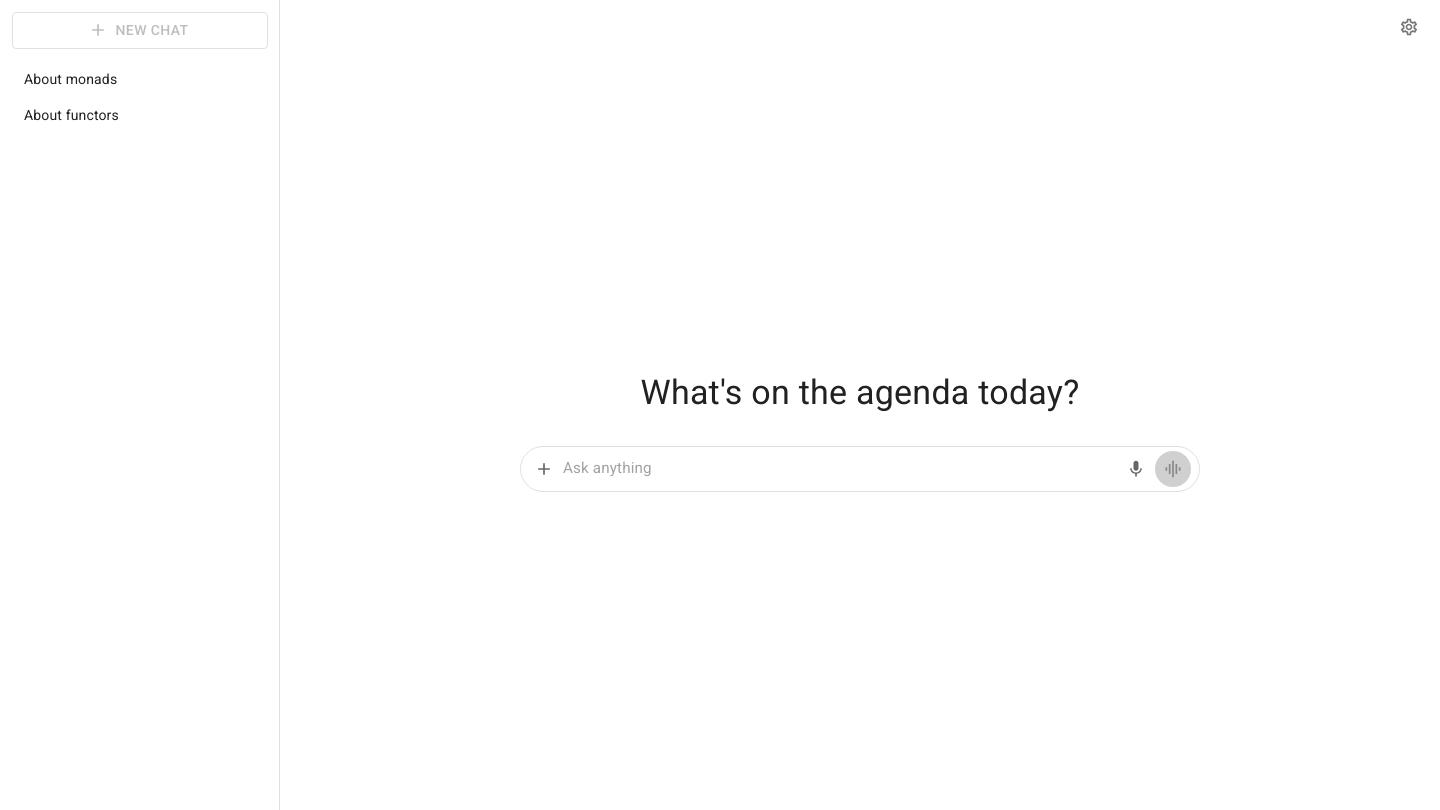
Test: ChatShell › clears an error on New chat
Type "Hello" into the field at coordinates (842, 469), box [563,454,1121,484]
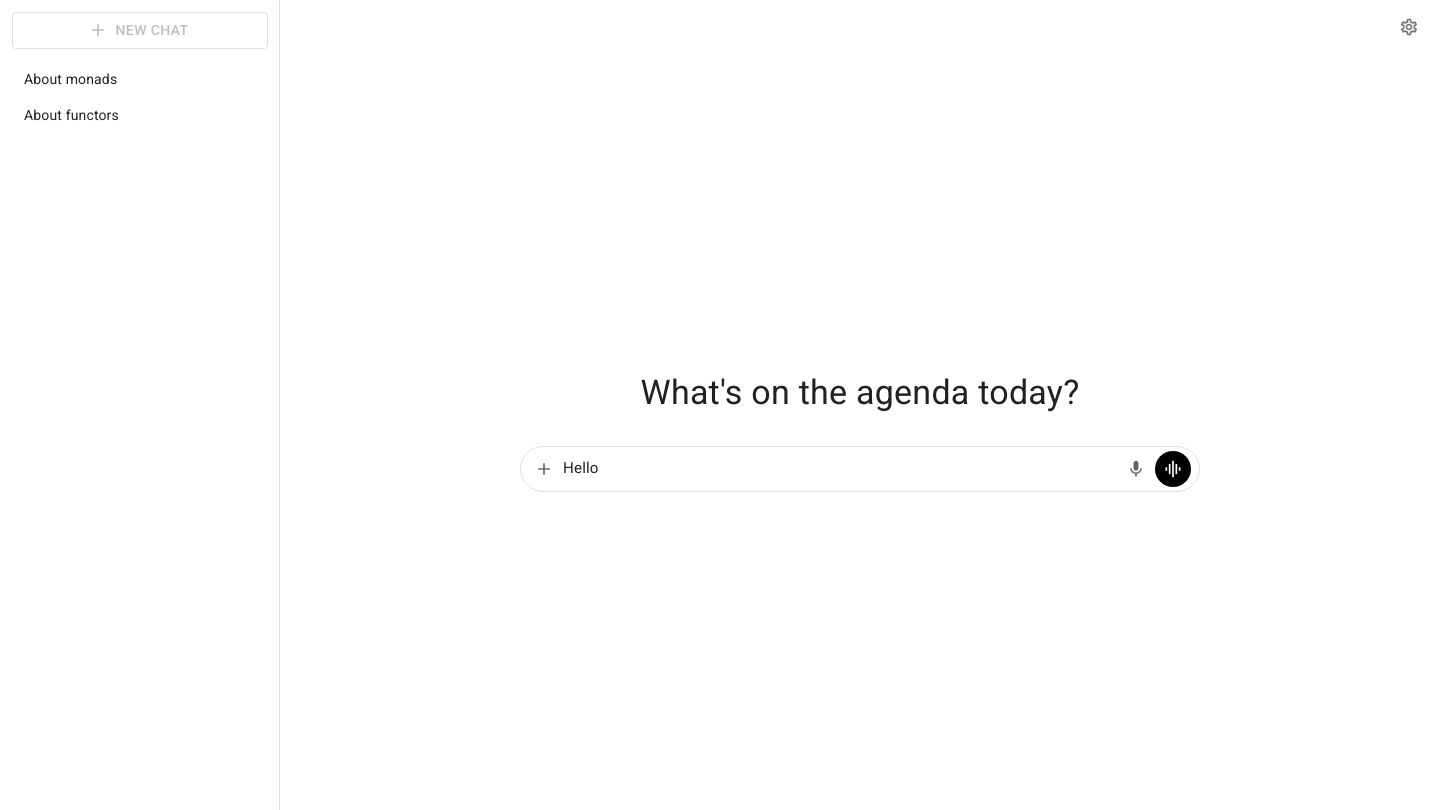
Click the button named "send" at coordinates (1173, 469), box [1155,451,1191,487]
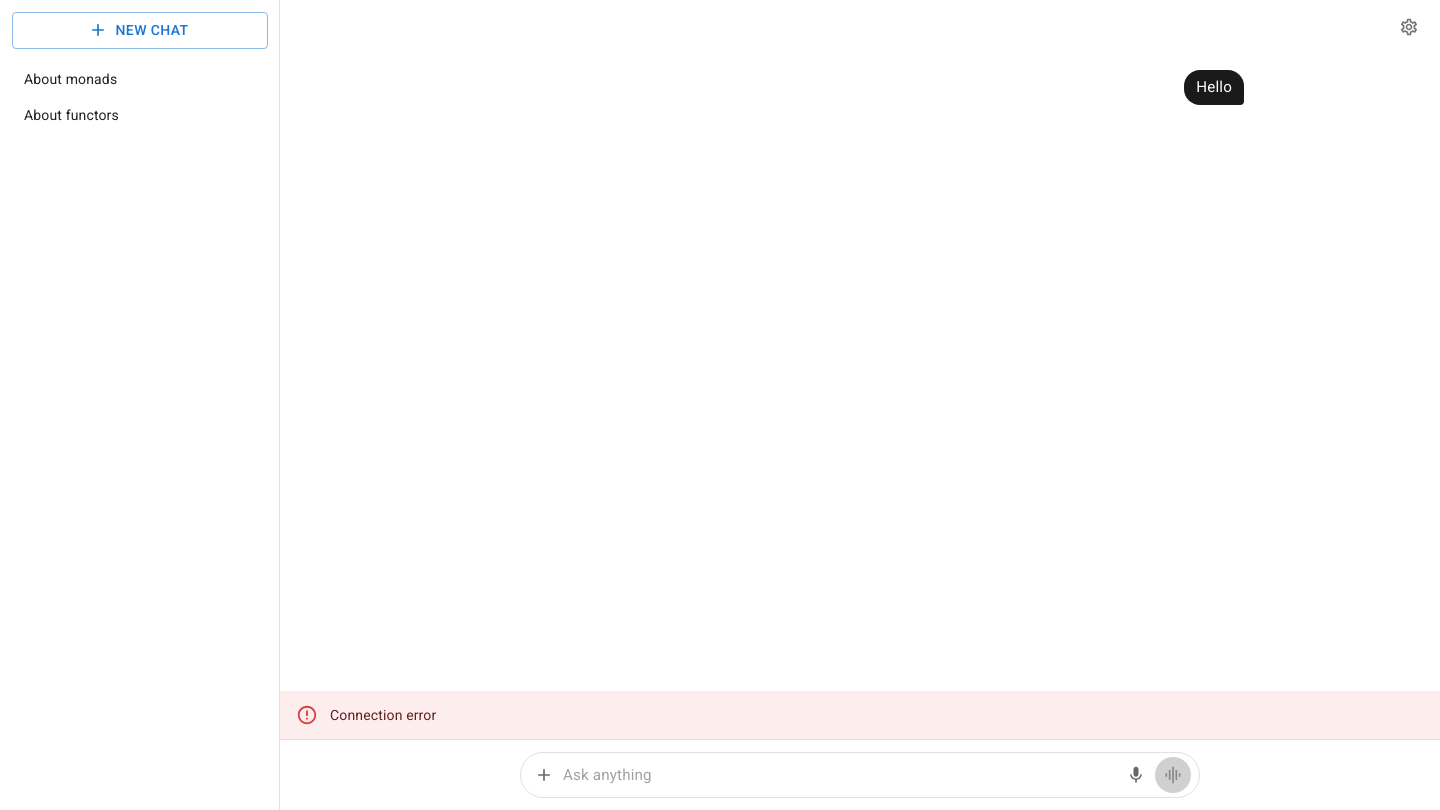
Expected: the text "Connection error" is shown, [330,707,436,723]
Click the button "New chat" at coordinates (140, 30), box [12,12,268,48]
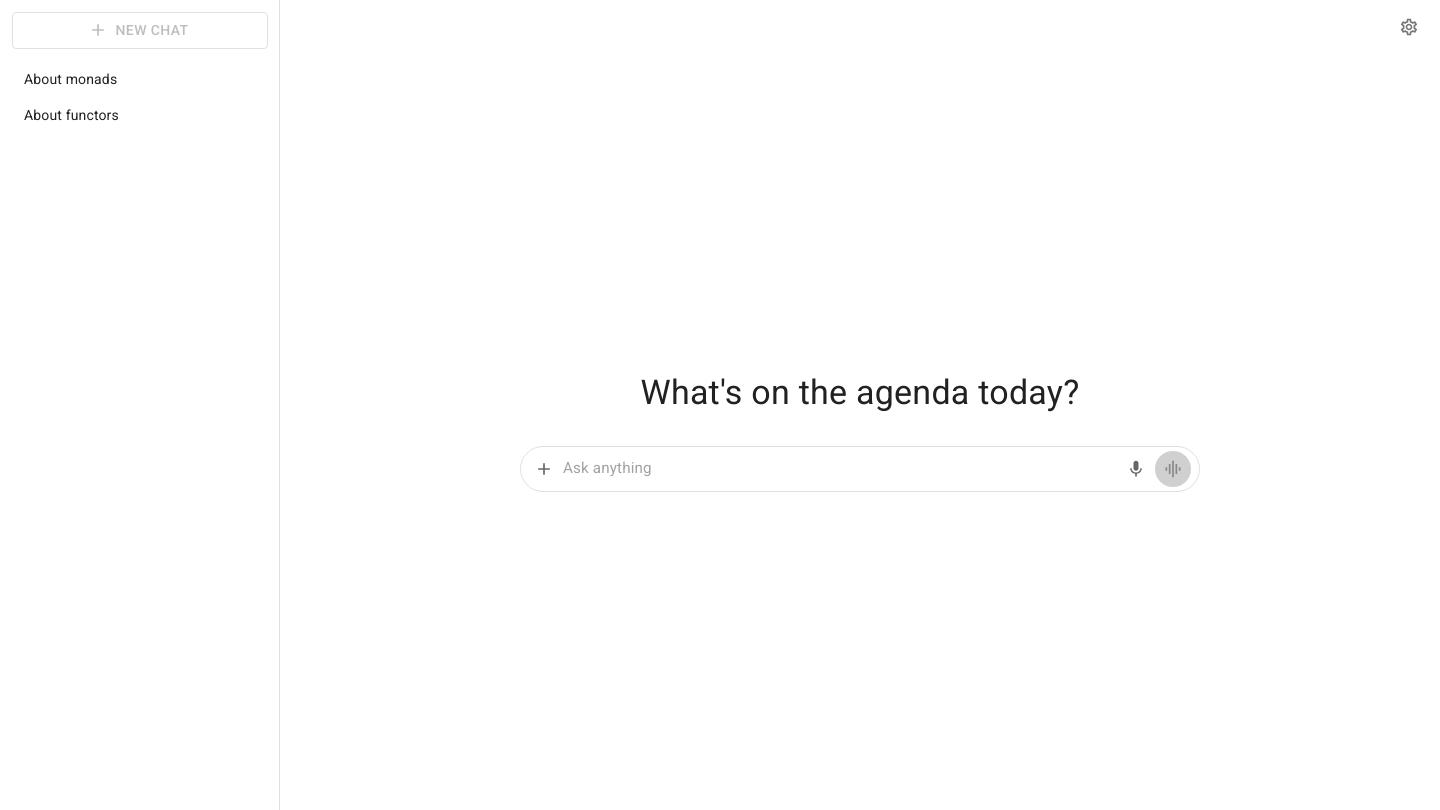
Expected: the text "Connection error" is gone
